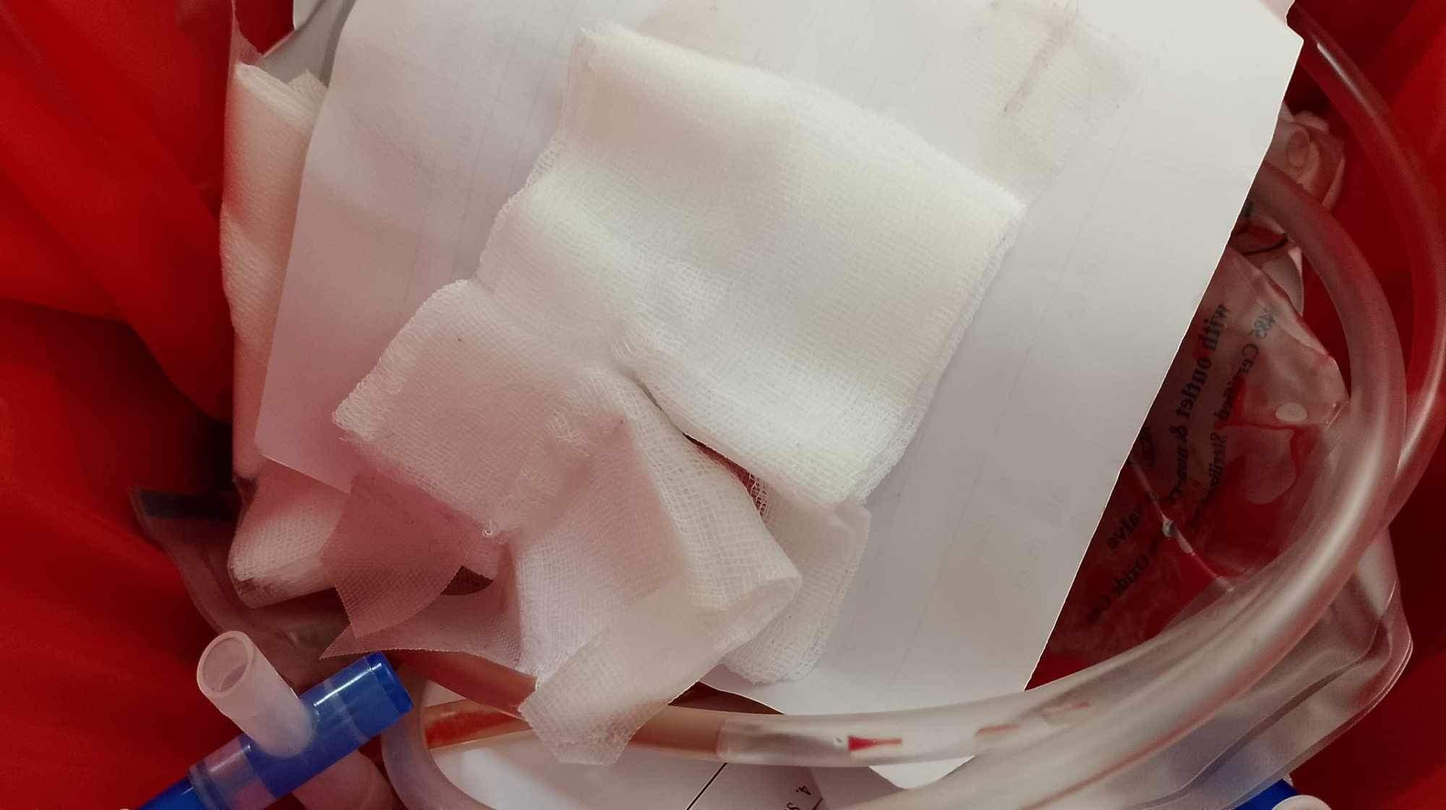General: (134, 3, 1436, 806)
Sharps: (137, 645, 414, 807)
